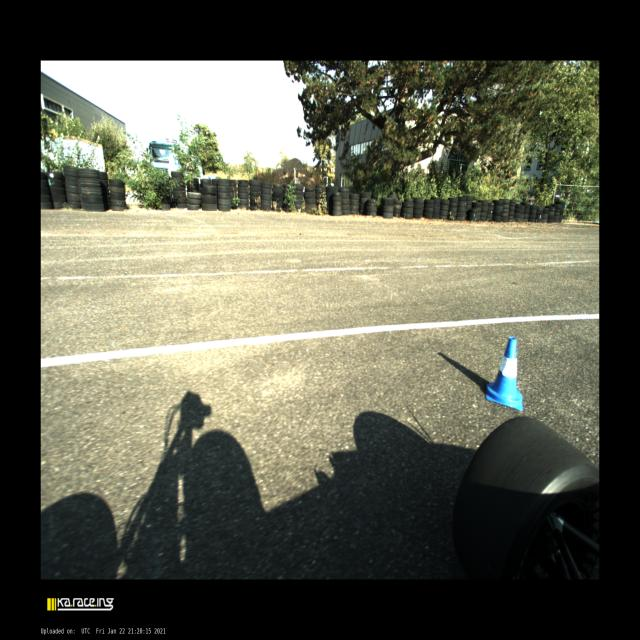blue_cone: (486, 337, 523, 411)
